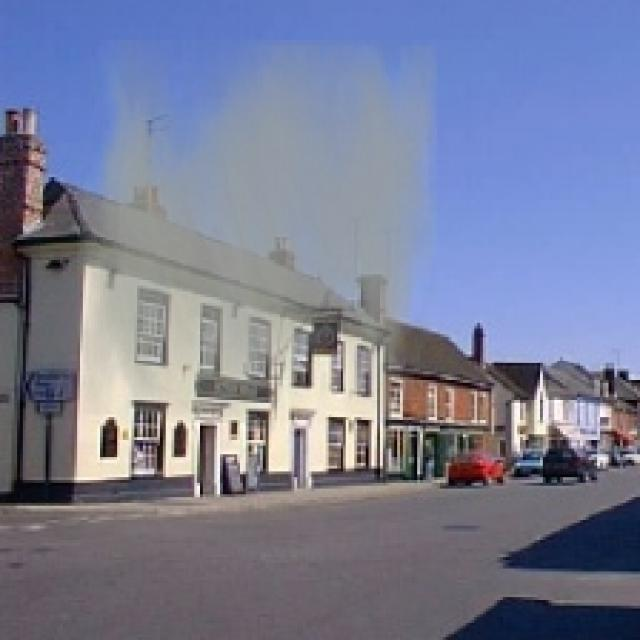Smoke: (77, 40, 437, 423)
